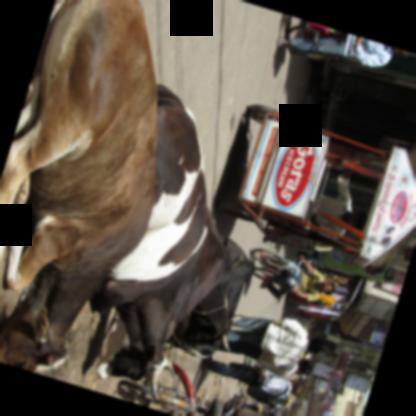backpack: (244, 381, 286, 404)
